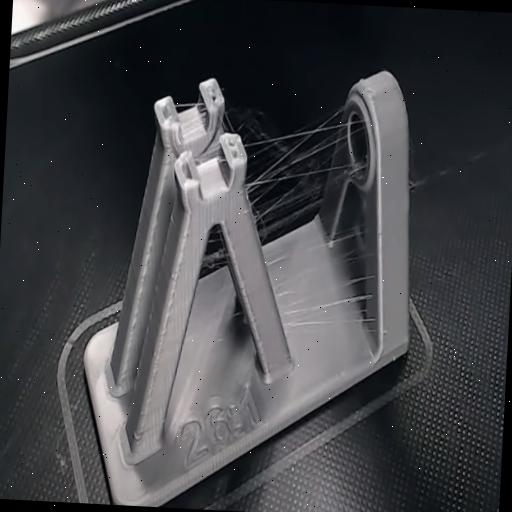stringing: (225, 75, 361, 206), (273, 211, 380, 344)
